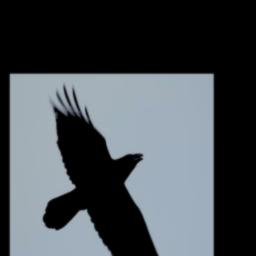Crow: (41, 80, 169, 256)
